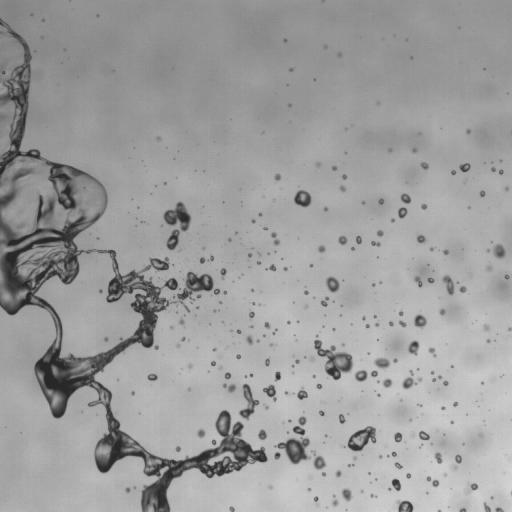droplet: (275, 415, 310, 464), (314, 337, 353, 380), (163, 201, 191, 250), (345, 426, 376, 451), (402, 370, 422, 389), (294, 190, 311, 207), (311, 450, 326, 469), (263, 384, 276, 401), (326, 276, 339, 292), (396, 500, 413, 511), (493, 244, 505, 258), (408, 340, 419, 355), (374, 358, 389, 369), (414, 314, 426, 327), (354, 370, 367, 381), (464, 483, 478, 493), (342, 488, 352, 501), (296, 388, 307, 399), (391, 478, 401, 490), (400, 193, 411, 203), (223, 384, 236, 392), (459, 163, 470, 172), (398, 207, 407, 218), (381, 378, 392, 387), (418, 431, 429, 440), (434, 452, 442, 463), (338, 235, 347, 244), (414, 276, 422, 286), (258, 429, 266, 439), (394, 432, 402, 442), (320, 297, 328, 306), (147, 373, 157, 380), (417, 235, 425, 243), (197, 429, 205, 437), (246, 335, 253, 344), (428, 347, 435, 356), (220, 268, 226, 278), (267, 264, 275, 271), (483, 503, 490, 511), (339, 414, 345, 423), (332, 497, 338, 506), (421, 162, 428, 169), (274, 173, 281, 180), (318, 245, 325, 252), (274, 452, 281, 459), (455, 455, 461, 463), (371, 241, 380, 246), (275, 371, 280, 380), (199, 257, 206, 263), (427, 277, 434, 283), (459, 286, 466, 292), (399, 321, 406, 327), (371, 370, 377, 377), (224, 372, 230, 379), (395, 462, 401, 469), (335, 470, 341, 477), (356, 236, 361, 244), (479, 190, 485, 196), (18, 222, 24, 228), (377, 230, 383, 236), (439, 309, 445, 315), (264, 322, 270, 328), (483, 324, 489, 330), (249, 311, 254, 318), (378, 198, 383, 204), (421, 204, 427, 209), (208, 255, 213, 261), (486, 266, 492, 271), (179, 318, 184, 324), (265, 358, 269, 365), (340, 186, 345, 191), (443, 249, 448, 254), (398, 311, 403, 316), (309, 356, 314, 361), (316, 383, 321, 388), (319, 410, 324, 415), (125, 487, 130, 492), (229, 506, 234, 511), (459, 508, 466, 511), (466, 129, 470, 134), (332, 166, 337, 170), (499, 169, 503, 174), (342, 174, 346, 179), (389, 321, 393, 326), (236, 354, 240, 359), (443, 381, 448, 385), (453, 402, 458, 406), (176, 446, 180, 451), (391, 452, 396, 456), (406, 473, 410, 478), (370, 494, 376, 497), (156, 136, 160, 140), (412, 148, 416, 152), (316, 162, 320, 166), (491, 167, 495, 171), (451, 170, 455, 174), (505, 274, 509, 278), (304, 290, 308, 294), (272, 330, 276, 334), (104, 337, 108, 341), (181, 337, 185, 341), (295, 359, 299, 363), (211, 361, 215, 365), (188, 364, 192, 368), (285, 391, 289, 395), (252, 219, 255, 223), (391, 218, 394, 222), (430, 247, 433, 251), (248, 253, 251, 257), (283, 267, 287, 270), (508, 327, 511, 331), (393, 359, 397, 362), (322, 472, 325, 476), (338, 53, 341, 56), (505, 187, 508, 190), (324, 207, 327, 210), (264, 227, 267, 230), (351, 247, 354, 250), (257, 261, 260, 264), (375, 323, 378, 326), (366, 324, 369, 327), (237, 330, 240, 333), (486, 339, 489, 342), (270, 343, 273, 346), (213, 348, 216, 351), (438, 375, 441, 378), (432, 378, 435, 381), (131, 391, 134, 394), (265, 405, 268, 408), (441, 406, 444, 409), (379, 455, 382, 458), (269, 485, 272, 488), (348, 464, 352, 466), (437, 509, 441, 511), (283, 39, 286, 41), (290, 68, 292, 71), (362, 201, 364, 204), (259, 213, 261, 216), (487, 249, 489, 252), (310, 264, 312, 267), (99, 290, 102, 292), (223, 291, 226, 293), (304, 305, 307, 307), (374, 315, 376, 318), (362, 317, 365, 319), (287, 321, 290, 323), (177, 344, 179, 347), (431, 371, 433, 374), (312, 375, 315, 377), (418, 404, 421, 406), (353, 457, 356, 459), (454, 466, 457, 468), (444, 473, 446, 476), (308, 488, 310, 491), (228, 239, 230, 241), (250, 325, 252, 327), (219, 366, 221, 368), (479, 434, 481, 436)
ligament: (0, 19, 265, 511), (239, 384, 259, 419), (442, 275, 454, 294), (426, 476, 438, 487), (271, 232, 279, 245), (314, 496, 319, 506), (244, 373, 253, 377), (495, 507, 504, 511), (321, 0, 324, 1)
